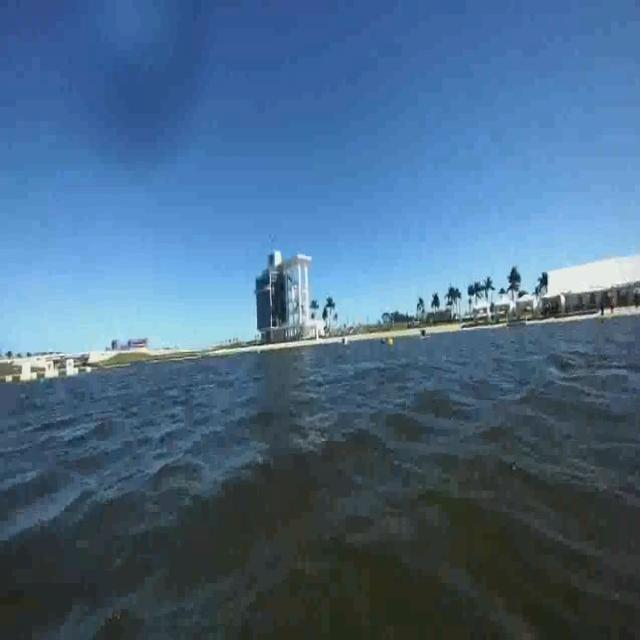yellow-buoy: (386, 337, 392, 349)
